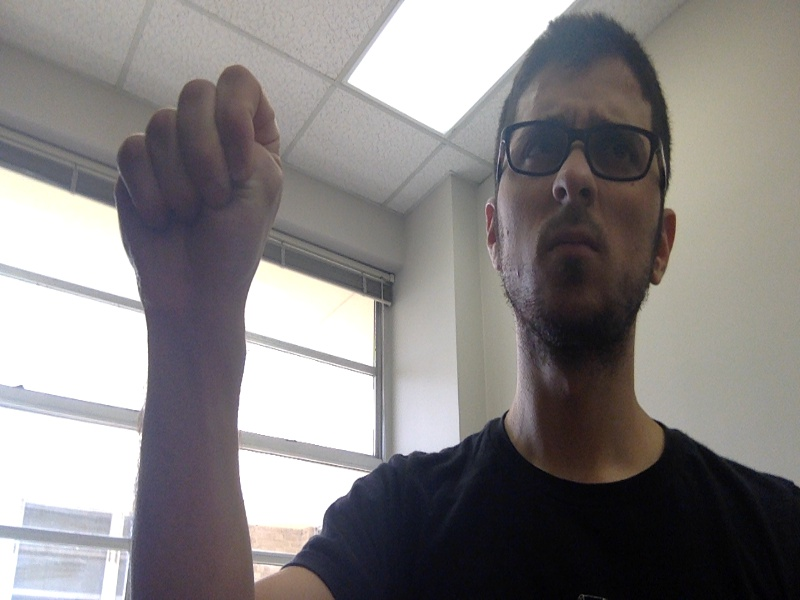0-hand: (115, 64, 283, 302)
